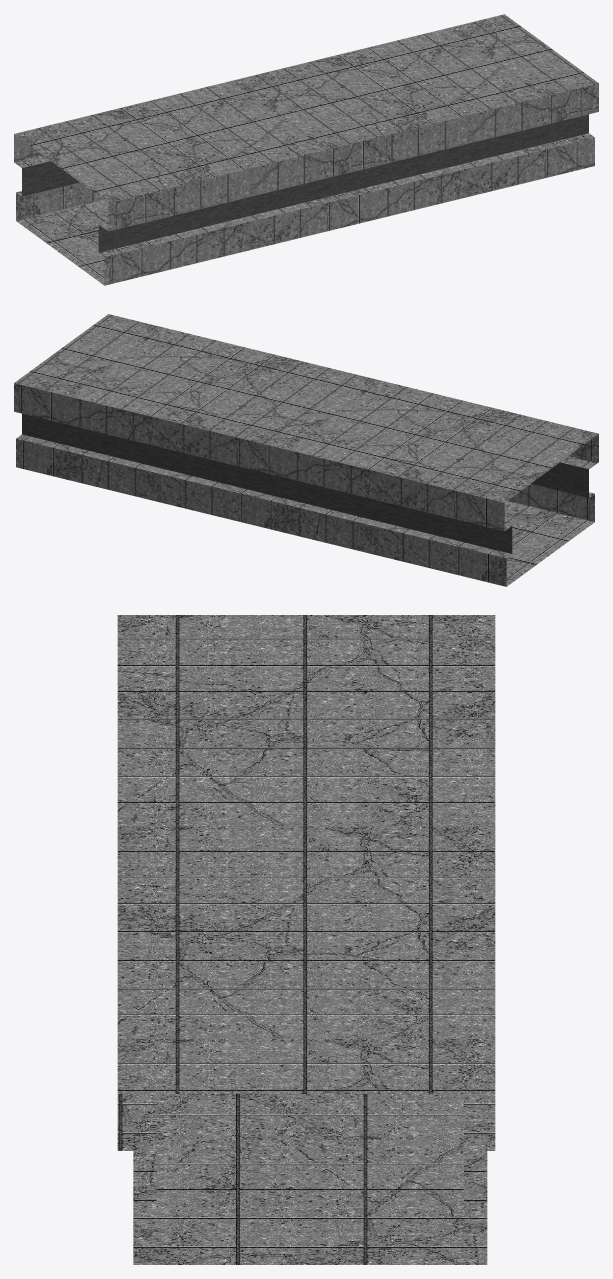
The model's file is MegaBridge2.fbx.
3 views of the same model, one above another, from view 1: azimuth 30°, elevation 25°; view 2: azimuth 150°, elevation 25°; view 3: azimuth 270°, elevation 25° (orthographic). The views are drawn at different scales.
Visible parts, largest first — view 1: Cube.002; view 2: Cube.002; view 3: Cube.002.
Part boxes in pixels (x1,y1,x2,y2): Cube.002: [14, 14, 598, 285]; Cube.002: [14, 314, 598, 586]; Cube.002: [117, 615, 495, 1264].
Bounding box in the file's own units: 3600 × 600 × 1200.
